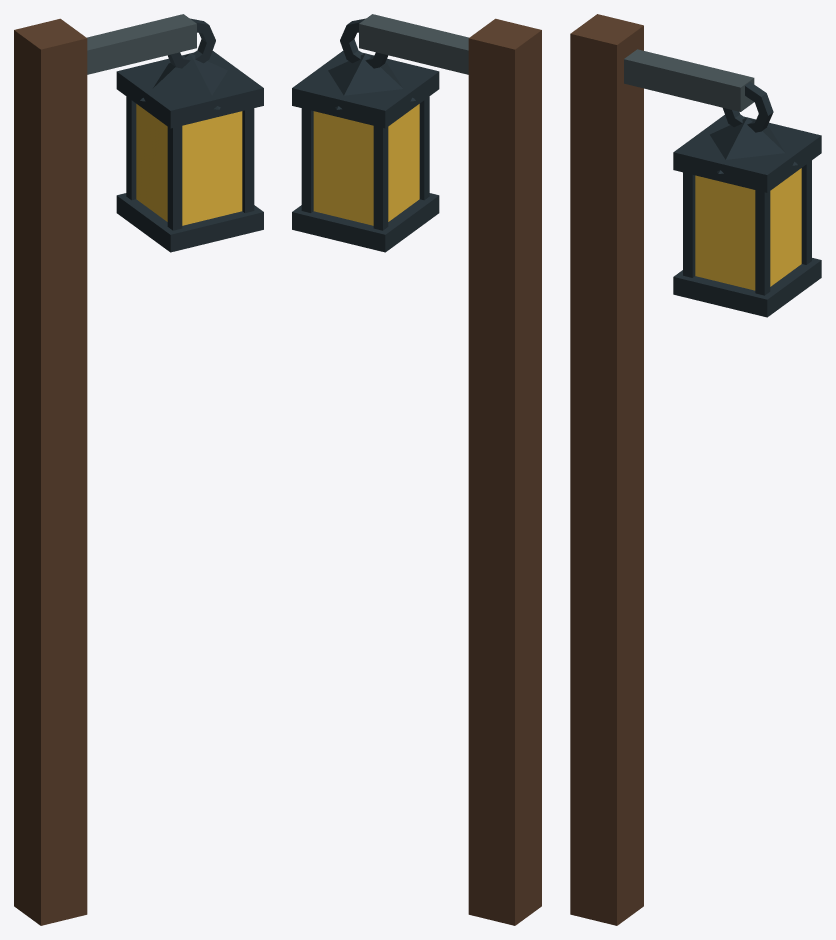
Rendered from dock_kit__dock_lamp.glb.
3 renders of one model, left to right at view 1: azimuth 30°, elevation 25°; view 2: azimuth 150°, elevation 25°; view 3: azimuth 330°, elevation 25°, orthographic.
Parts seen in each view (by area): view 1: dock_lamp__wood_dark.001, dock_lamp__dark.001, dock_lamp__yellow2.001, dock_lamp__metal.001; view 2: dock_lamp__wood_dark.001, dock_lamp__dark.001, dock_lamp__yellow2.001, dock_lamp__metal.001; view 3: dock_lamp__wood_dark.001, dock_lamp__dark.001, dock_lamp__yellow2.001, dock_lamp__metal.001.
Boxes of the visible parts, box(x1,y1,x2,y2) form: dock_lamp__wood_dark.001: box(14, 18, 87, 925); dock_lamp__dark.001: box(116, 18, 263, 252); dock_lamp__yellow2.001: box(136, 104, 242, 225); dock_lamp__metal.001: box(87, 14, 196, 74); dock_lamp__wood_dark.001: box(468, 18, 541, 925); dock_lamp__dark.001: box(292, 18, 439, 252); dock_lamp__yellow2.001: box(313, 104, 419, 225); dock_lamp__metal.001: box(359, 14, 468, 74); dock_lamp__wood_dark.001: box(570, 14, 643, 925); dock_lamp__dark.001: box(673, 82, 821, 317); dock_lamp__yellow2.001: box(695, 168, 801, 290); dock_lamp__metal.001: box(624, 49, 754, 111).
Bounding box in the file's own units: 0.504 × 1.98 × 0.238.
